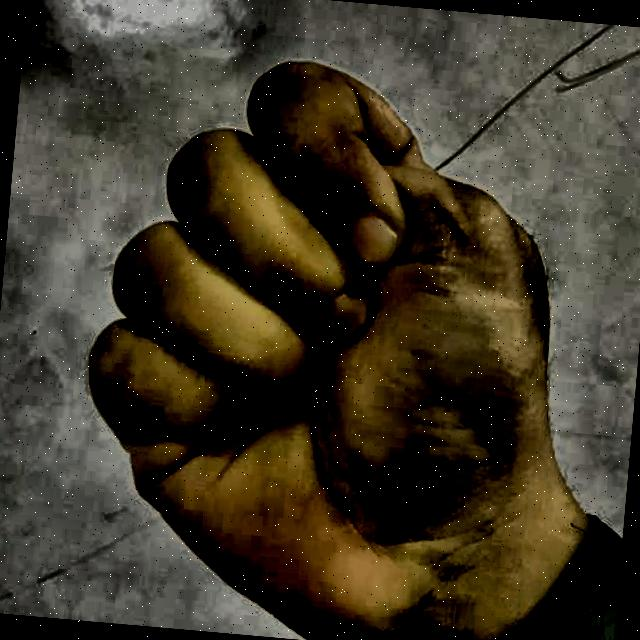To: (44, 25, 610, 640)
